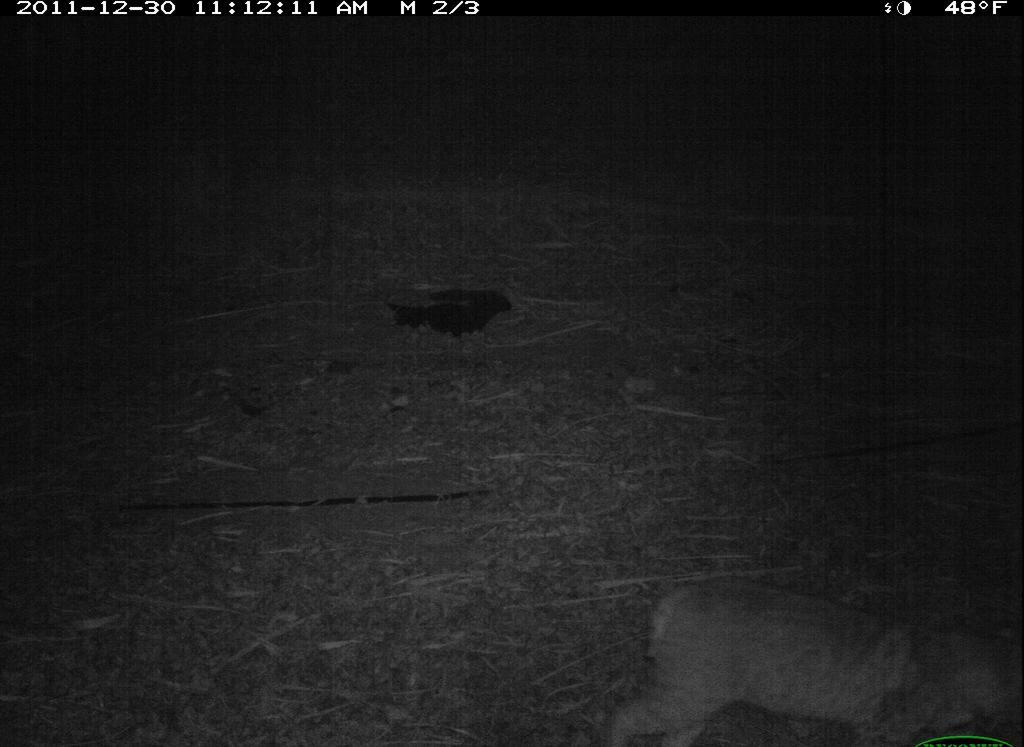bobcat: (603, 555, 1022, 740)
